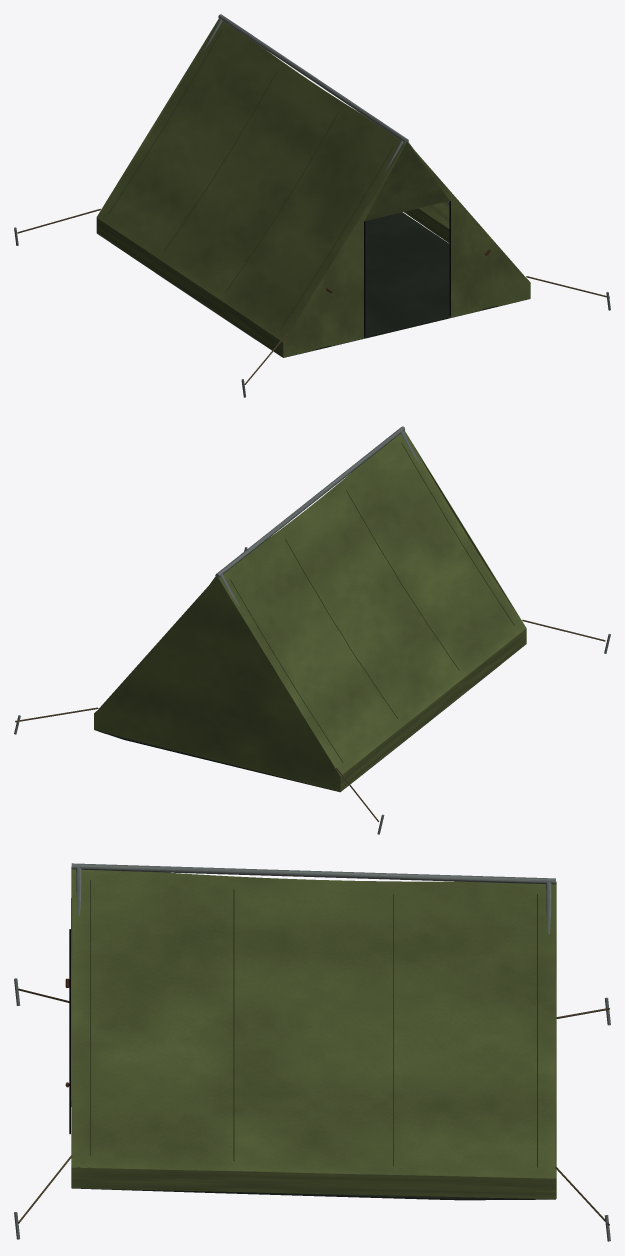
File: level_camp_tent_fitted_west_ridge_siteart.glb
3 views of the same model, one above another, from view 1: azimuth 30°, elevation 25°; view 2: azimuth 150°, elevation 25°; view 3: azimuth 270°, elevation 25° (orthographic). The views are drawn at different scales.
Parts seen in each view (by area): view 1: level_camp_tent_fitted_west_ridge_siteart; view 2: level_camp_tent_fitted_west_ridge_siteart; view 3: level_camp_tent_fitted_west_ridge_siteart.
Boxes of the visible parts, bbox=[...] form: level_camp_tent_fitted_west_ridge_siteart: bbox=[14, 14, 610, 397]; level_camp_tent_fitted_west_ridge_siteart: bbox=[14, 426, 610, 834]; level_camp_tent_fitted_west_ridge_siteart: bbox=[14, 863, 610, 1241].
Bounding box in the file's own units: 3.9 × 2.15 × 4.19.
Materials: 8 (8 with a texture image).
